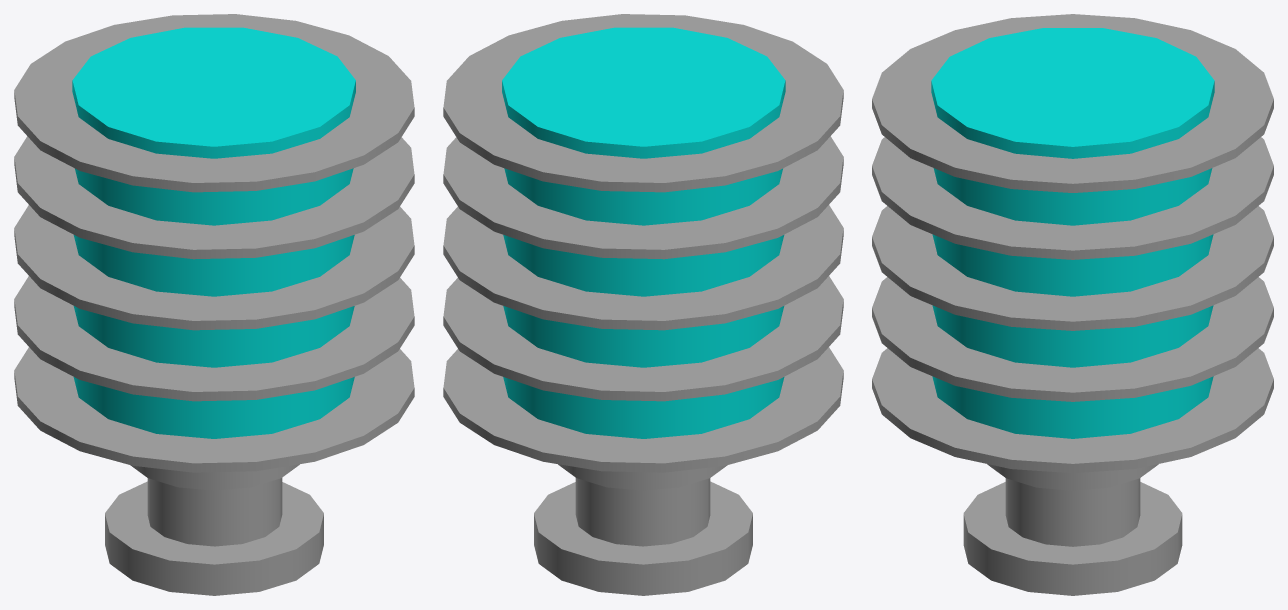
The model's file is sm_light.fbx.
The picture shows the model from 3 angles, left to right: view 1: azimuth 30°, elevation 25°; view 2: azimuth 150°, elevation 25°; view 3: azimuth 270°, elevation 25°; orthographic projection.
Parts seen in each view (by area): view 1: sm_light; view 2: sm_light; view 3: sm_light.
Boxes of the visible parts, box(x1,y1,x2,y2) form: sm_light: box(14, 14, 414, 595); sm_light: box(443, 14, 843, 595); sm_light: box(872, 14, 1273, 595).
Size of the model in its own units: 3.65 by 4.64 by 3.65.
